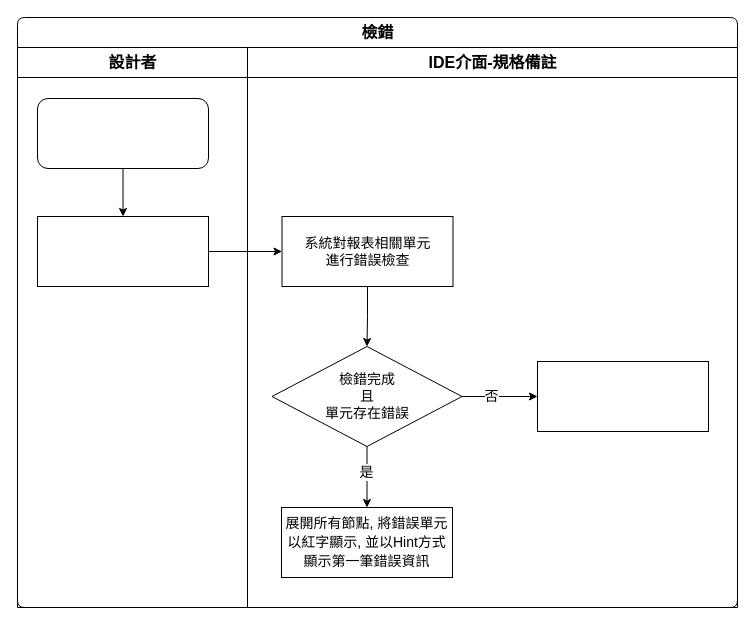
Some shapes in this 755 by 625 pixel diagram are drawn without their labels. The centre of each missing label's shape, as x and y in pixels:
執行按鈕.檢錯: (x=122, y=251)
開啟: 報表規格定義: (x=122, y=133)
顯示檢錯完成訊息: (x=622, y=396)
